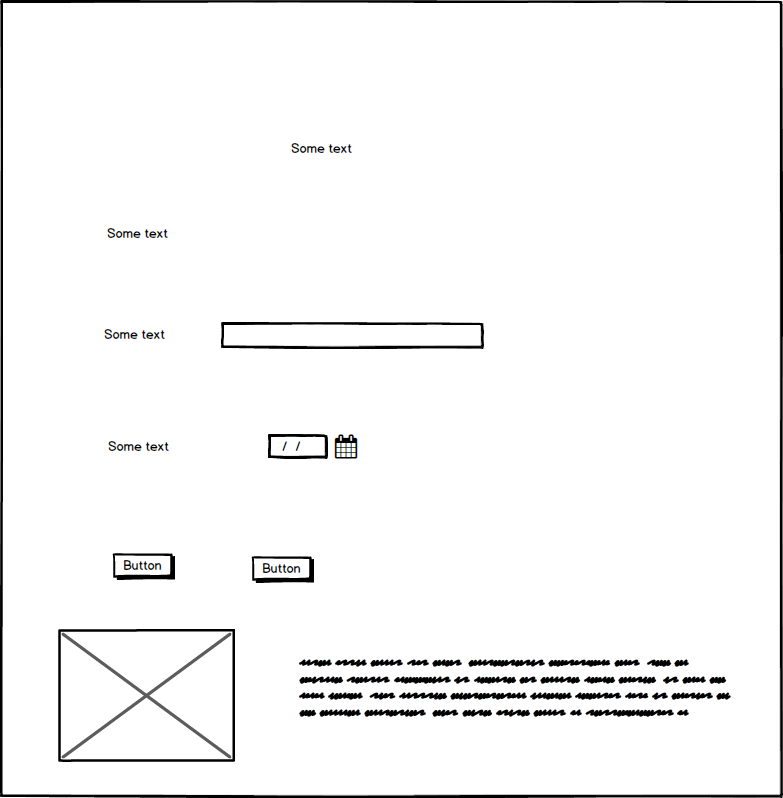button: (243, 551, 322, 589), (112, 547, 182, 586)
date_picker: (262, 428, 365, 472)
image: (50, 623, 245, 769)
input: (217, 318, 489, 354)
label: (101, 428, 181, 462), (95, 318, 179, 350), (95, 218, 181, 246), (287, 134, 360, 161)
p: (288, 647, 747, 730)
